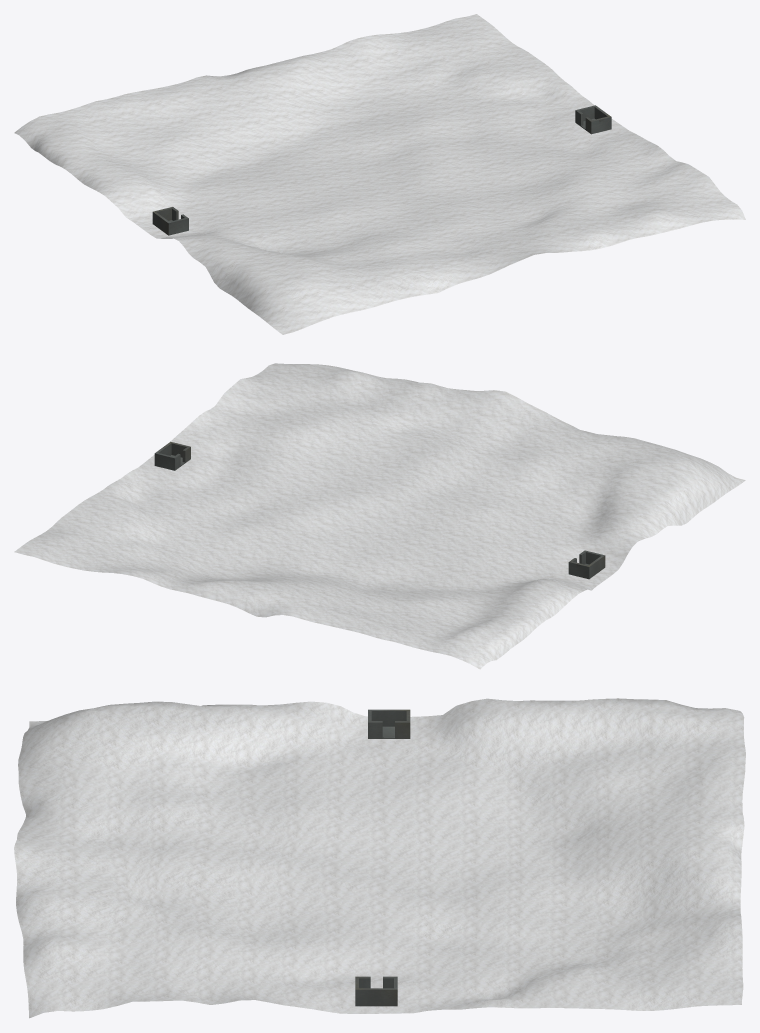
The model's file is Outdoors V2.fbx.
3 renders of one model, top to bottom at view 1: azimuth 30°, elevation 25°; view 2: azimuth 150°, elevation 25°; view 3: azimuth 270°, elevation 25°, orthographic. The views are drawn at different scales.
Visible parts, largest first — view 1: Environment, Research_Base_Entry1, Research_Base_Entry; view 2: Environment, Research_Base_Entry1, Research_Base_Entry; view 3: Environment, Research_Base_Entry, Research_Base_Entry1.
Part boxes in pixels (x1=…): Environment: x1=14, y1=14, x2=745, y2=334; Research_Base_Entry1: x1=575, y1=105, x2=611, y2=134; Research_Base_Entry: x1=152, y1=207, x2=188, y2=235; Environment: x1=14, y1=363, x2=745, y2=669; Research_Base_Entry1: x1=154, y1=441, x2=190, y2=470; Research_Base_Entry: x1=568, y1=550, x2=605, y2=579; Environment: x1=14, y1=698, x2=745, y2=1018; Research_Base_Entry: x1=368, y1=709, x2=410, y2=738; Research_Base_Entry1: x1=355, y1=976, x2=397, y2=1006.
Bounding box in the file's own units: 8277 × 482 × 8365.
2 materials, 2 textured.
